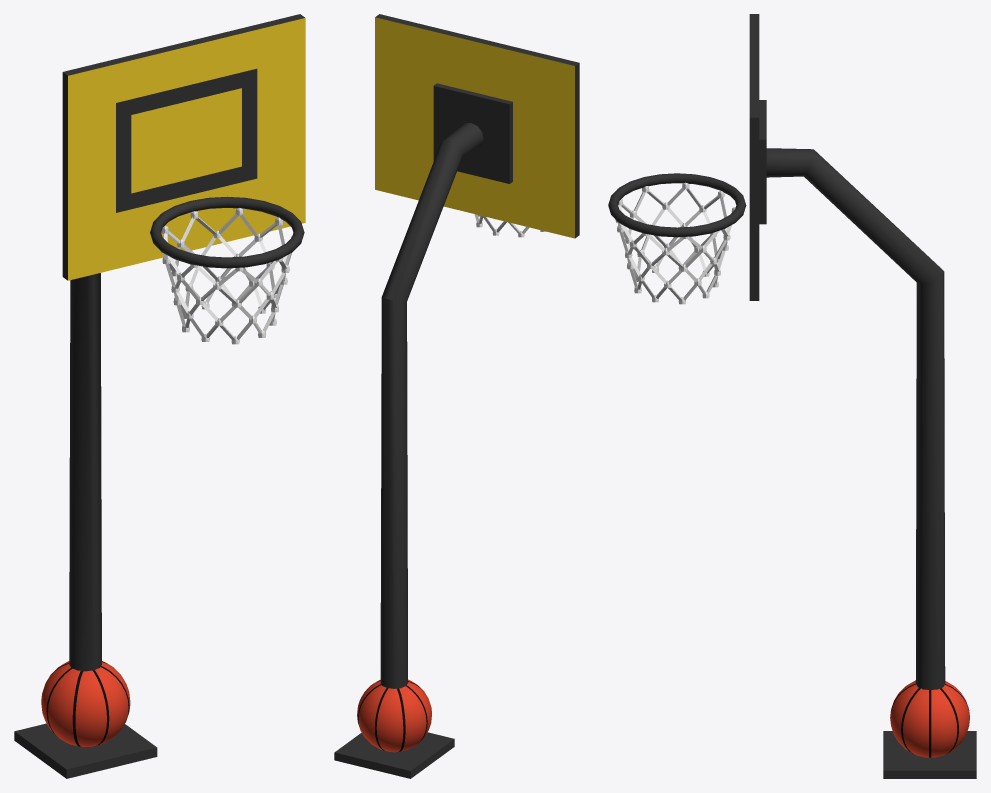
The model's file is Basketball.FBX.
3 renders of one model, left to right at view 1: azimuth 30°, elevation 25°; view 2: azimuth 150°, elevation 25°; view 3: azimuth 270°, elevation 25°, orthographic. The views are drawn at different scales.
Visible parts, largest first — view 1: Hoop_B, Hoop_A, Basketball, Filet_01_, Hoop_C, Filet_02_NoBackFacing; view 2: Hoop_B, Hoop_A, Basketball; view 3: Hoop_A, Basketball, Filet_01_, Hoop_B, Hoop_C, Filet_02_NoBackFacing.
Part boxes in pixels (bbox=[...]): Hoop_B: bbox=[62, 14, 305, 280]; Hoop_A: bbox=[14, 273, 157, 778]; Basketball: bbox=[41, 661, 130, 746]; Filet_01_: bbox=[161, 208, 292, 340]; Hoop_C: bbox=[150, 196, 304, 268]; Filet_02_NoBackFacing: bbox=[161, 217, 292, 344]; Hoop_B: bbox=[375, 14, 579, 238]; Hoop_A: bbox=[334, 83, 512, 778]; Basketball: bbox=[357, 679, 431, 752]; Hoop_A: bbox=[759, 100, 976, 778]; Basketball: bbox=[890, 680, 969, 757]; Filet_01_: bbox=[617, 188, 735, 300]; Hoop_B: bbox=[749, 14, 759, 300]; Hoop_C: bbox=[608, 173, 746, 237]; Filet_02_NoBackFacing: bbox=[615, 182, 706, 304].
Bounding box in the file's own units: 134 × 418 × 201.
